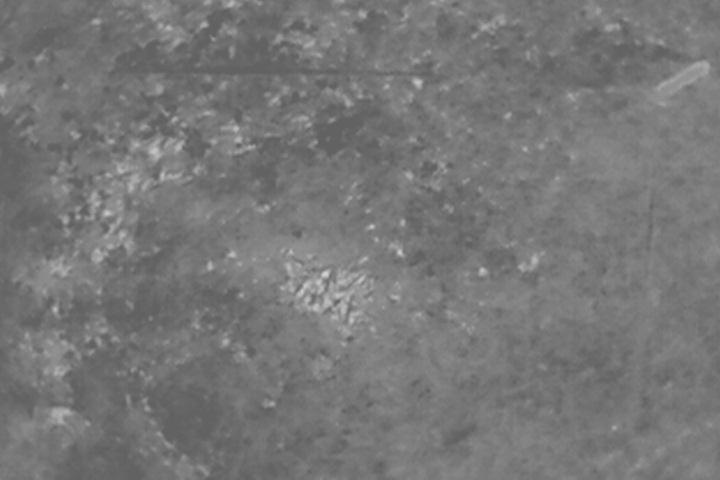landmine: (275, 245, 385, 333)
